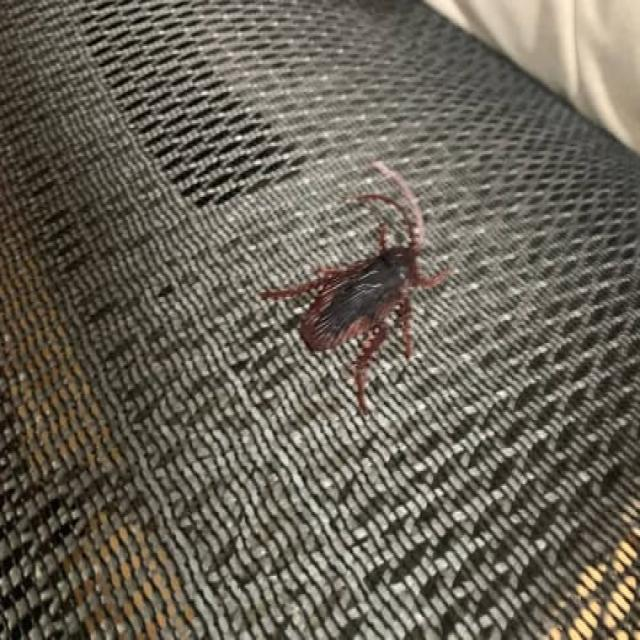Cockroach: (258, 148, 456, 408)
